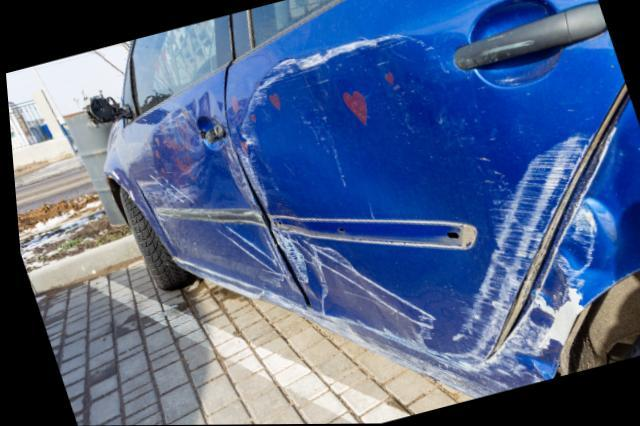dent: (252, 54, 497, 311), (169, 106, 198, 150)
rub: (237, 33, 594, 368), (135, 174, 282, 289)
scratch: (303, 204, 593, 400)
